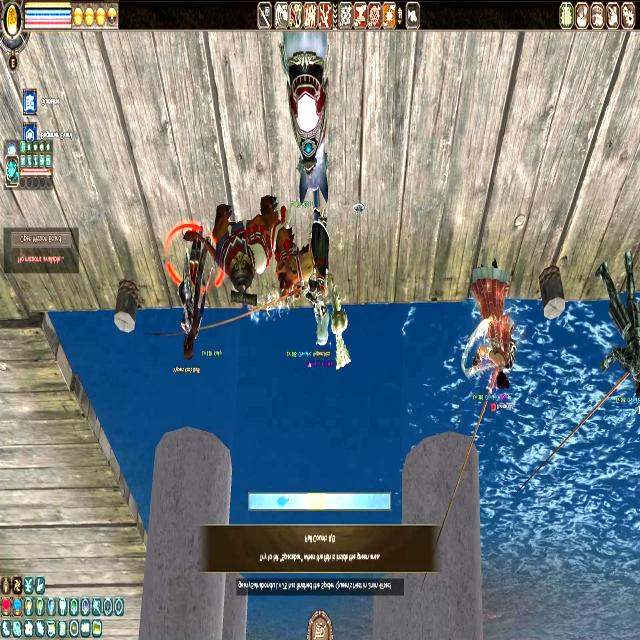fishes: (276, 495, 289, 509)
